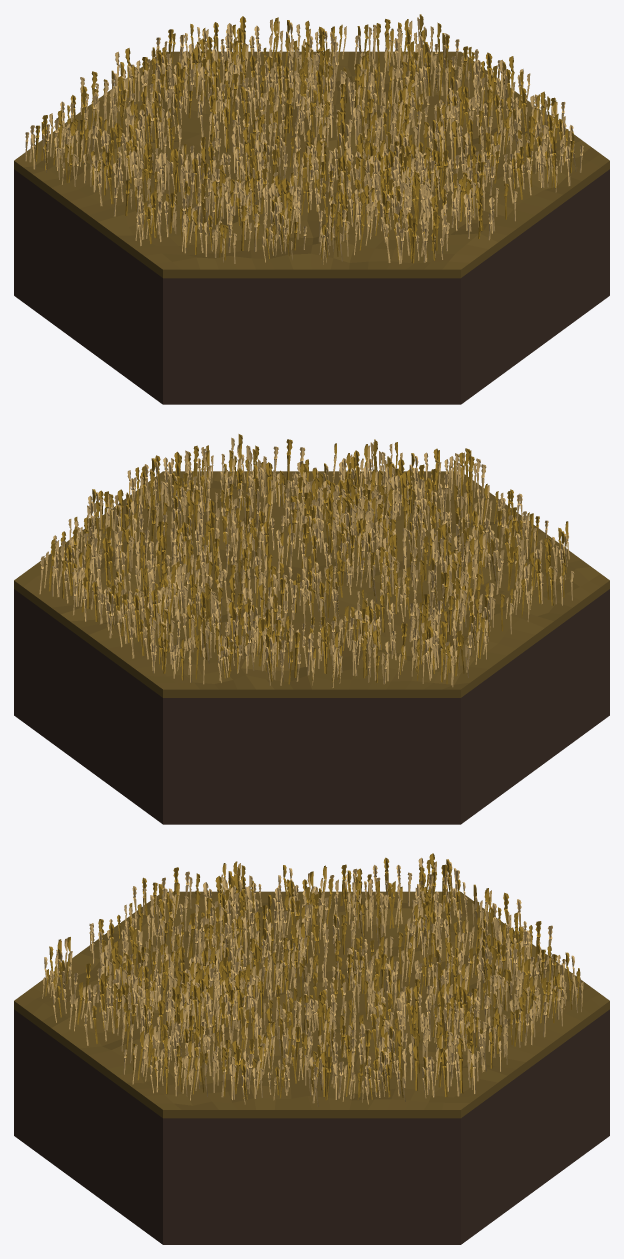
File: Getreidefeld_V2.fbx
3 renders of one model, top to bottom at view 1: azimuth 30°, elevation 25°; view 2: azimuth 150°, elevation 25°; view 3: azimuth 270°, elevation 25°, orthographic.
Parts seen in each view (by area): view 1: Cylinder, Circle; view 2: Cylinder, Circle; view 3: Cylinder, Circle.
Boxes of the visible parts, x1,y1,x2,y2 form: Cylinder: (14, 51, 609, 404); Circle: (25, 14, 583, 264); Cylinder: (14, 471, 609, 824); Circle: (39, 434, 574, 687); Cylinder: (14, 891, 609, 1244); Circle: (42, 853, 583, 1106).
Bounding box in the file's own units: 173 × 68 × 200.
